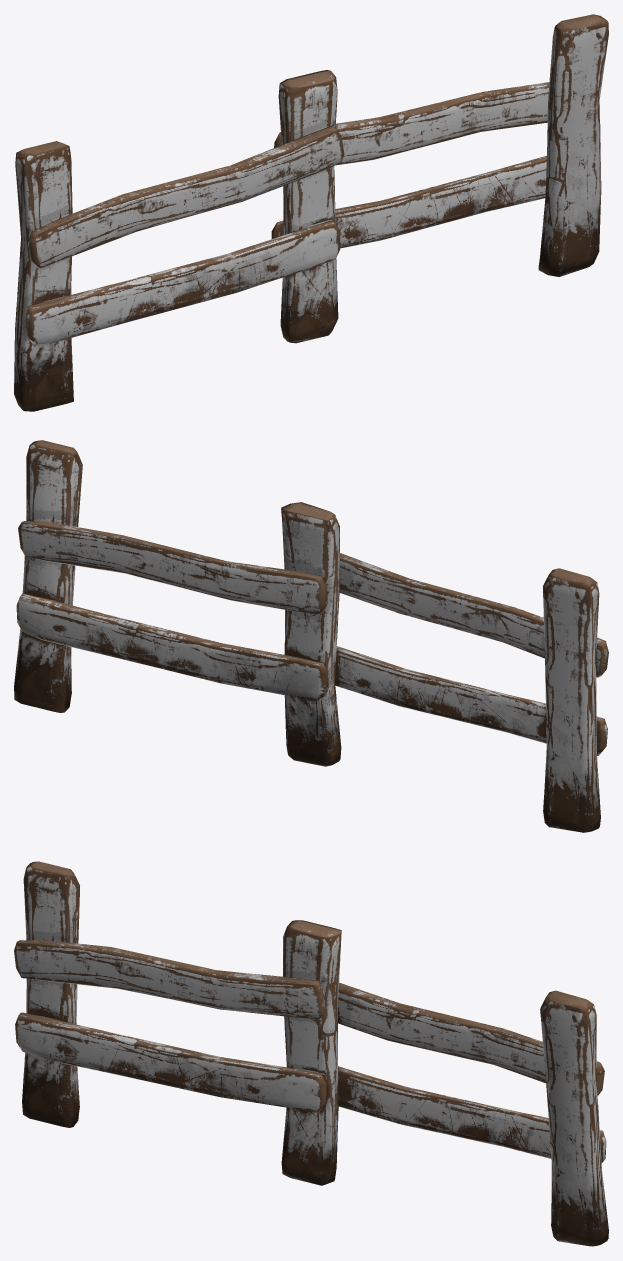
Rendered from fence1.fbx.
3 renders of one model, top to bottom at view 1: azimuth 30°, elevation 25°; view 2: azimuth 150°, elevation 25°; view 3: azimuth 330°, elevation 25°, orthographic. The views are drawn at different scales.
Visible parts, largest first — view 1: g Group3428; view 2: g Group3428; view 3: g Group3428.
Part boxes in pixels (left/top/right/bottom): g Group3428: left=14, top=14, right=608, bottom=411; g Group3428: left=14, top=440, right=608, bottom=832; g Group3428: left=14, top=861, right=608, bottom=1246.
Bounding box in the file's own units: 311 × 132 × 28.7.
